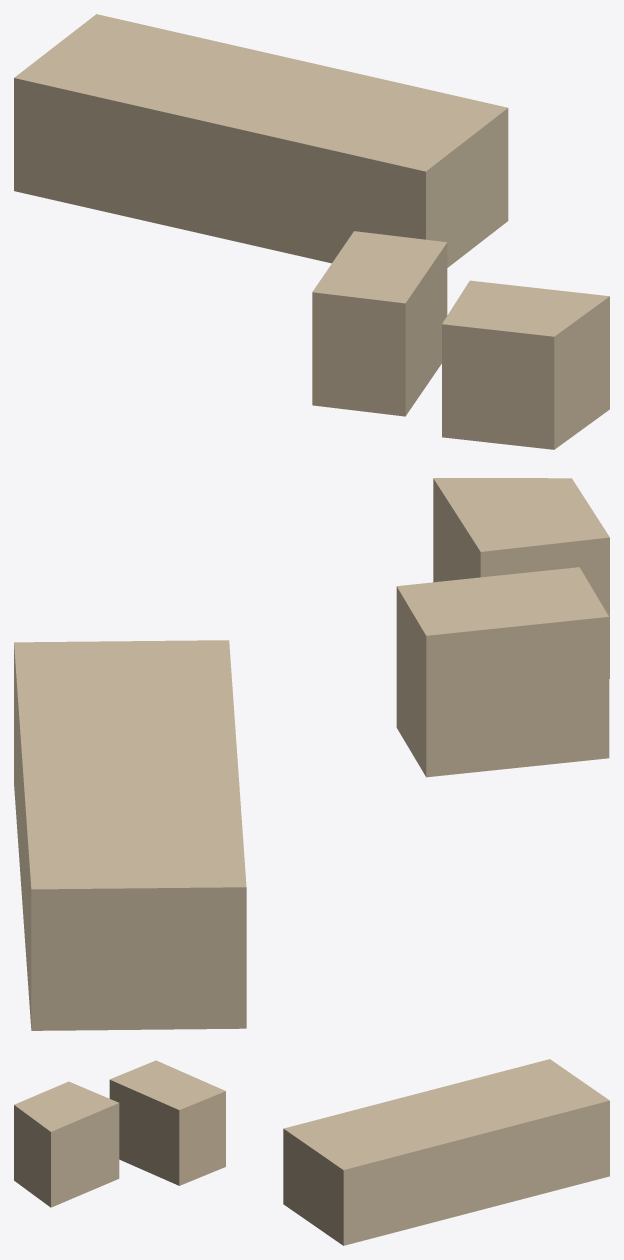
File: -19_-2-estimated-coarse.glb
The picture shows the model from 3 angles, top to bottom: view 1: azimuth 30°, elevation 25°; view 2: azimuth 150°, elevation 25°; view 3: azimuth 270°, elevation 25°; orthographic projection. The views are drawn at different scales.
Size of the model in its own units: 37.75 by 12 by 85.54.
